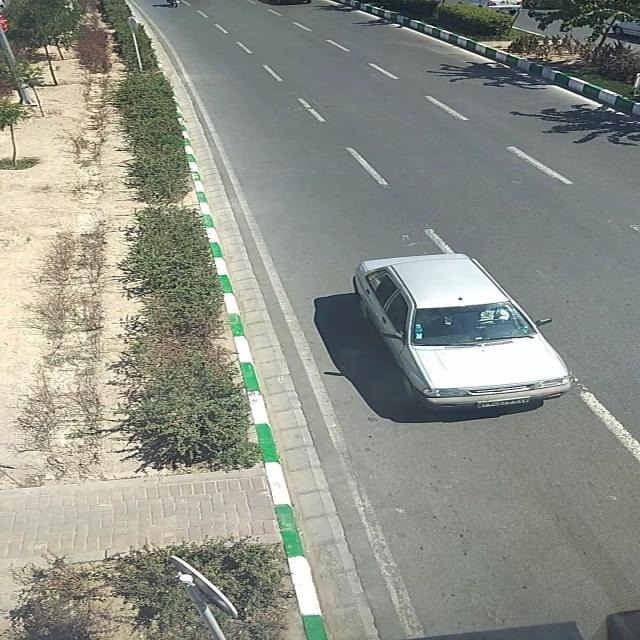car: (349, 253, 572, 409)
